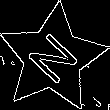N_SE: (21, 27, 85, 90)
